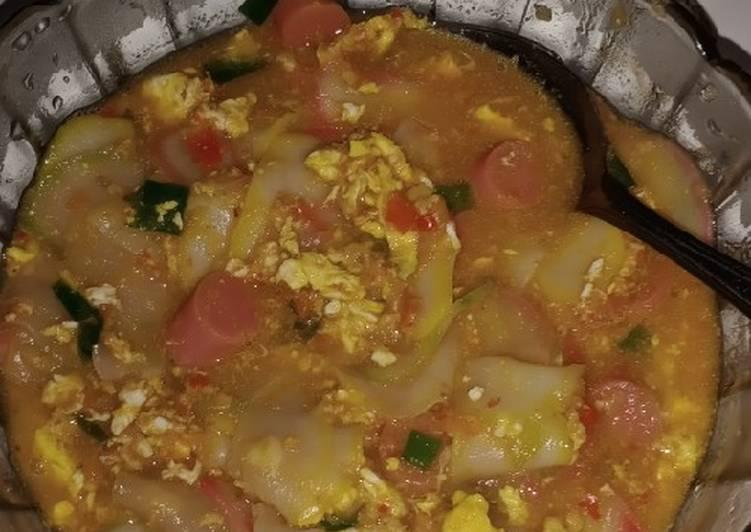seblak: (1, 3, 723, 532)
